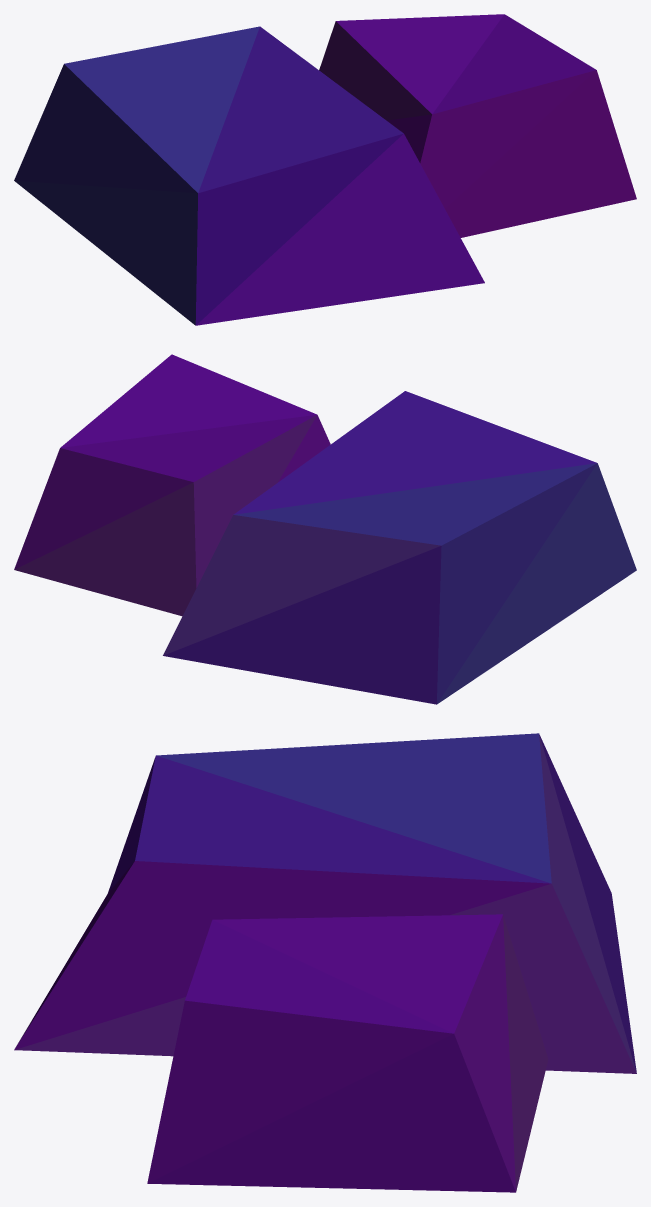
The model's file is SM_CinderCanyon_Chip_B.fbx.
3 renders of one model, top to bottom at view 1: azimuth 30°, elevation 25°; view 2: azimuth 150°, elevation 25°; view 3: azimuth 270°, elevation 25°, orthographic. The views are drawn at different scales.
Parts seen in each view (by area): view 1: SM_CinderCanyon_Chip_B; view 2: SM_CinderCanyon_Chip_B; view 3: SM_CinderCanyon_Chip_B.
Boxes of the visible parts, x1,y1,x2,y2 form: SM_CinderCanyon_Chip_B: (14, 14, 636, 325); SM_CinderCanyon_Chip_B: (14, 354, 636, 704); SM_CinderCanyon_Chip_B: (14, 733, 636, 1192).
Size of the model in its own units: 100 by 88 by 29.
